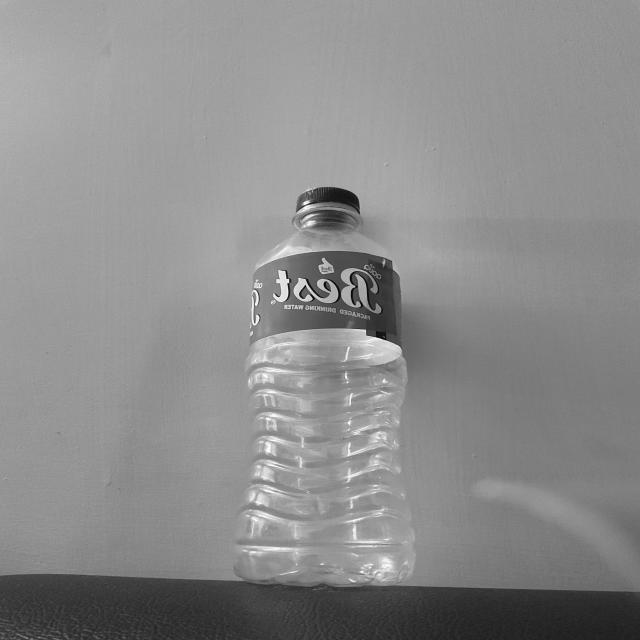Good-cap-Df0S: (294, 185, 363, 216)
